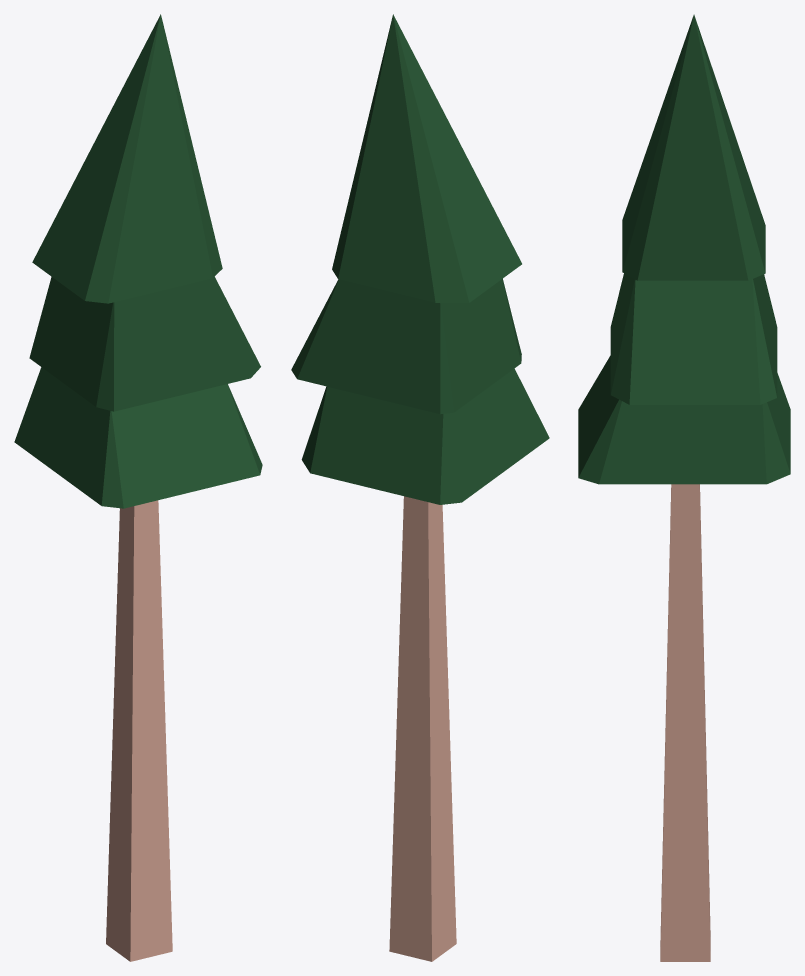
File: proto_pine_b.glb
3 views of the same model, side by side, from view 1: azimuth 30°, elevation 25°; view 2: azimuth 150°, elevation 25°; view 3: azimuth 270°, elevation 25° (orthographic). The views are drawn at different scales.
Visible parts, largest first — view 1: tree_pineTallB; view 2: tree_pineTallB; view 3: tree_pineTallB.
Part boxes in pixels (x1,y1,x2,y2): tree_pineTallB: (14, 14, 262, 961); tree_pineTallB: (291, 14, 549, 961); tree_pineTallB: (578, 14, 790, 961).
Bounding box in the file's own units: 2.8 × 14 × 2.84.
